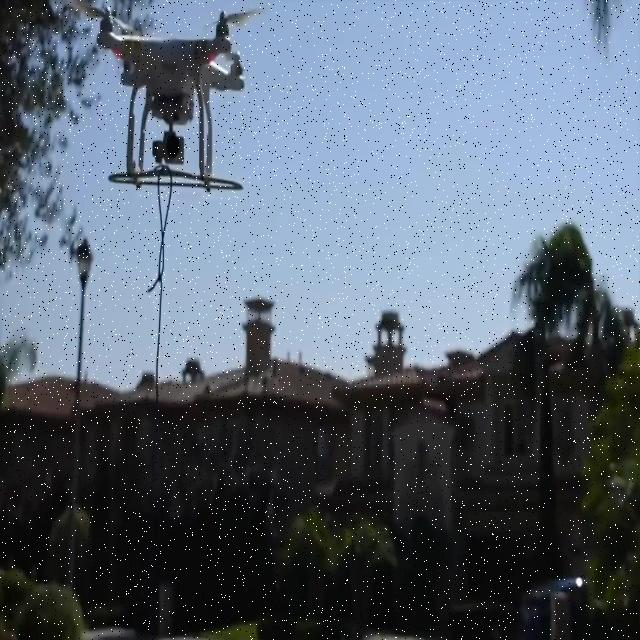UAV: (67, 0, 267, 194)
